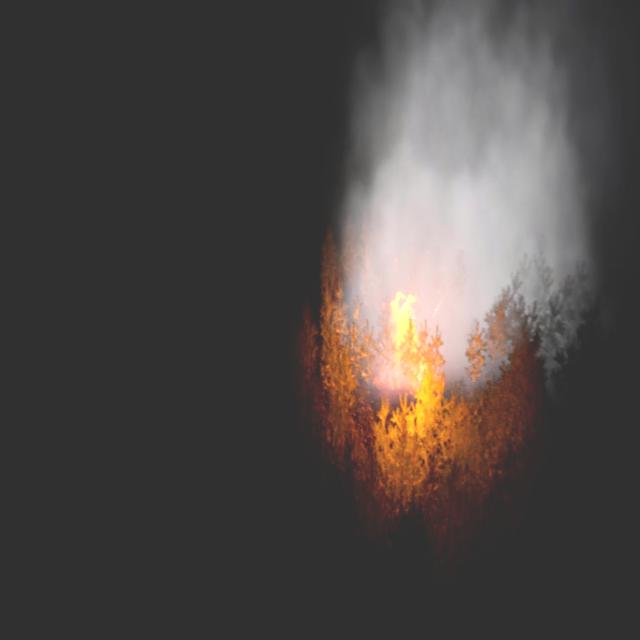fire: (374, 290, 436, 396)
smoke: (324, 1, 598, 397)
